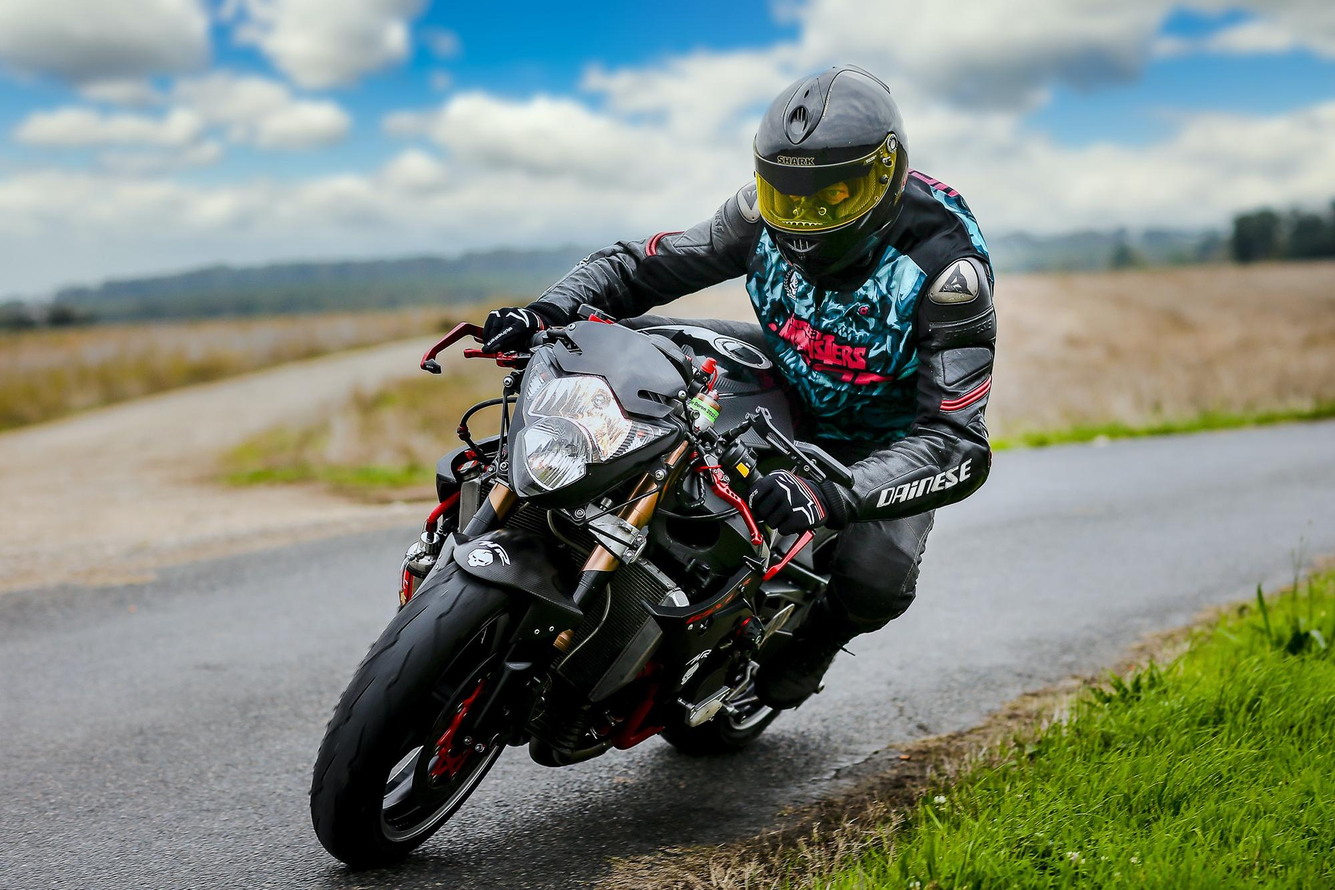helmet: (752, 63, 911, 282)
